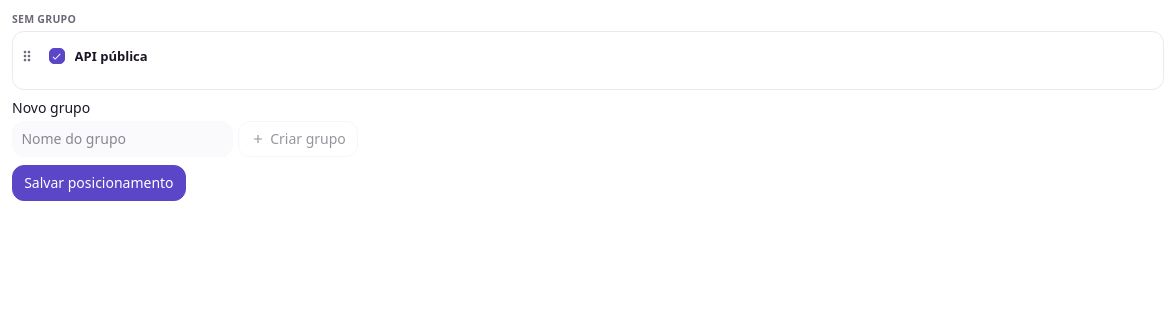
it: ServiceGroupPanel › renames a group inline via useUpdateGroup (M3)
Type "Pagamentos" into the field labelled "Novo grupo". click: (122, 139)
box: top-left (12, 121), bottom-right (233, 157)
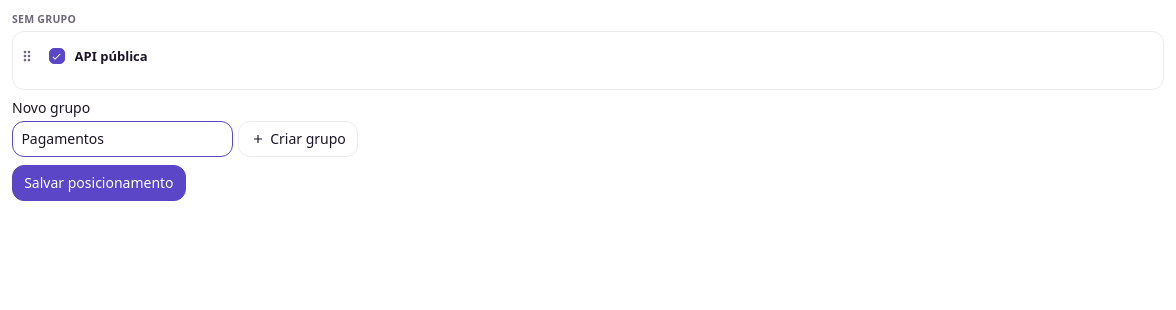
Click the button "Criar grupo". click: (298, 139)
box: top-left (238, 121), bottom-right (358, 157)
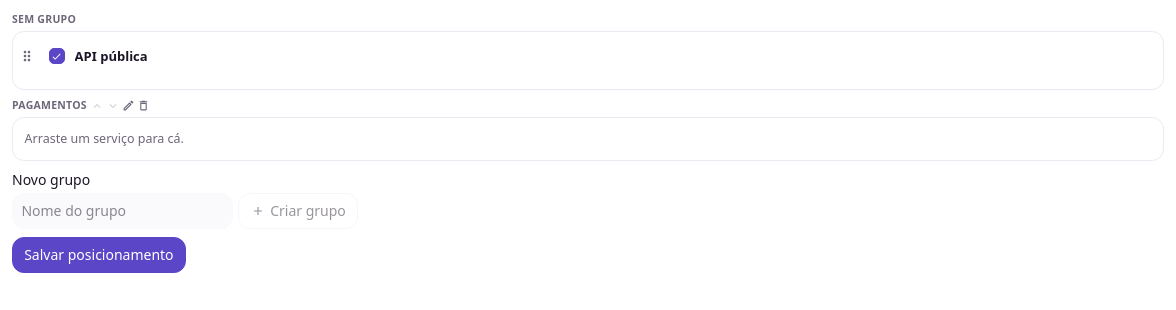
Expected: the text "Pagamentos" is shown, top-left (12, 98), bottom-right (87, 114)
Click the button named "Renomear Pagamentos". click: (128, 106)
box: top-left (122, 99), bottom-right (135, 112)
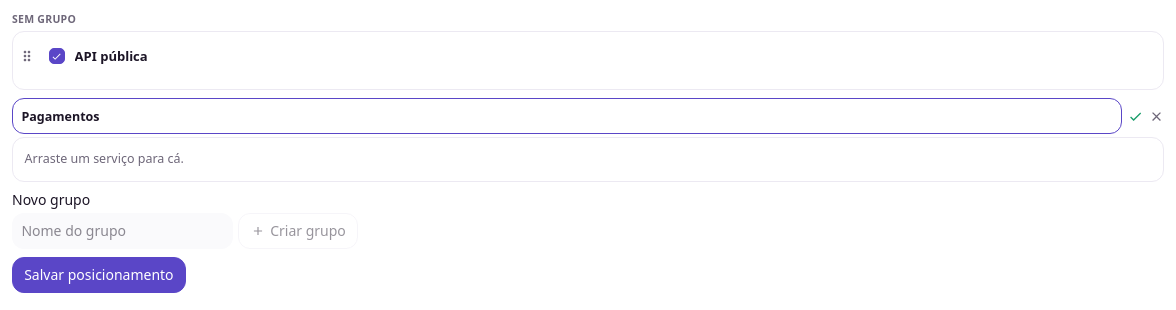
Replace the text in the field named "Nome do grupo" with "Cobrança". click: (567, 116)
box: top-left (12, 98), bottom-right (1122, 134)
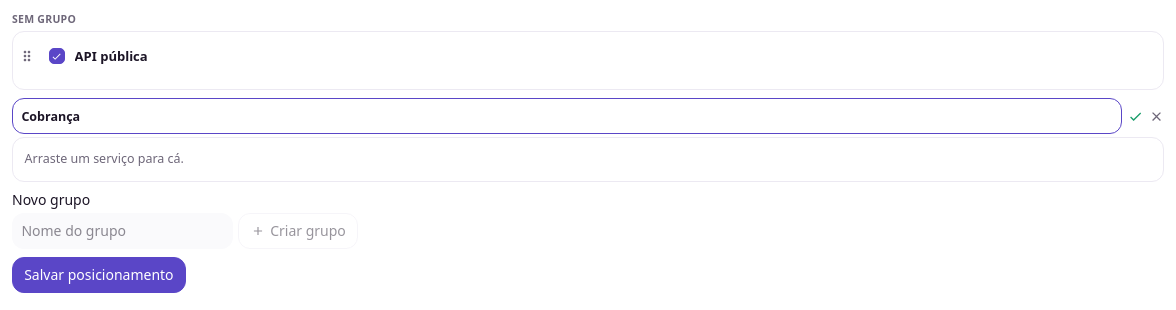
Click the button named "Salvar nome". click: (1136, 116)
box: top-left (1128, 108), bottom-right (1143, 124)
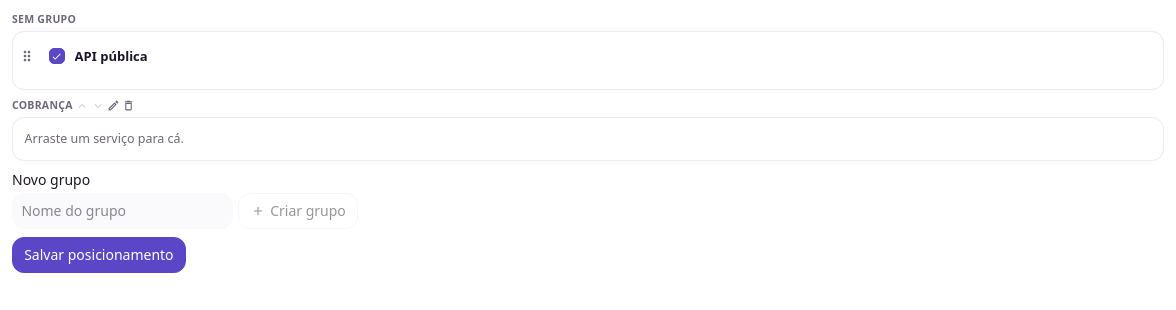
Expected: the text "Pagamentos" is not shown
Expected: the text "Cobrança" is shown, top-left (12, 98), bottom-right (73, 114)
